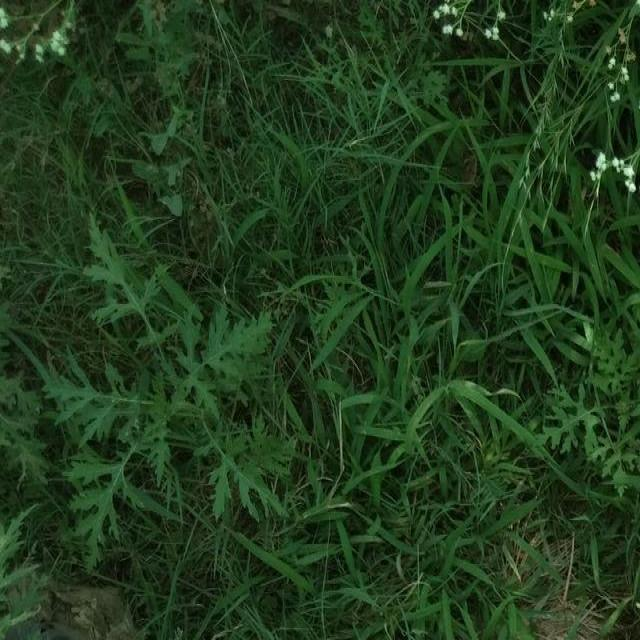weed: (72, 230, 269, 552), (435, 0, 640, 176), (543, 323, 640, 475), (440, 7, 452, 13)
